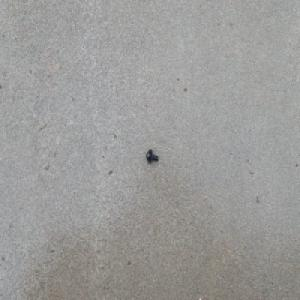BoltWasher: (146, 148, 158, 164)
